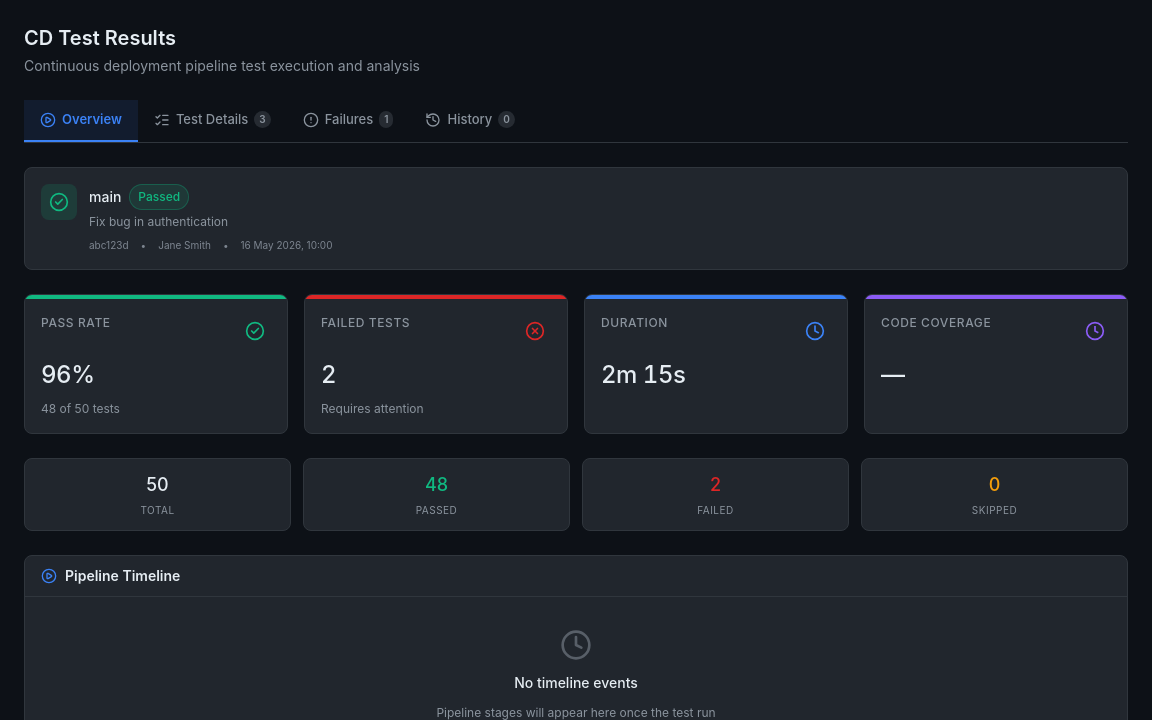
Test: TestResultsView › filters tests by status in Test Details tab
The width and height of the screenshot is (1152, 720).
// Navigate to Test Details
Click the tab "Test Details 3": x=212, y=121 [138, 100, 287, 142]
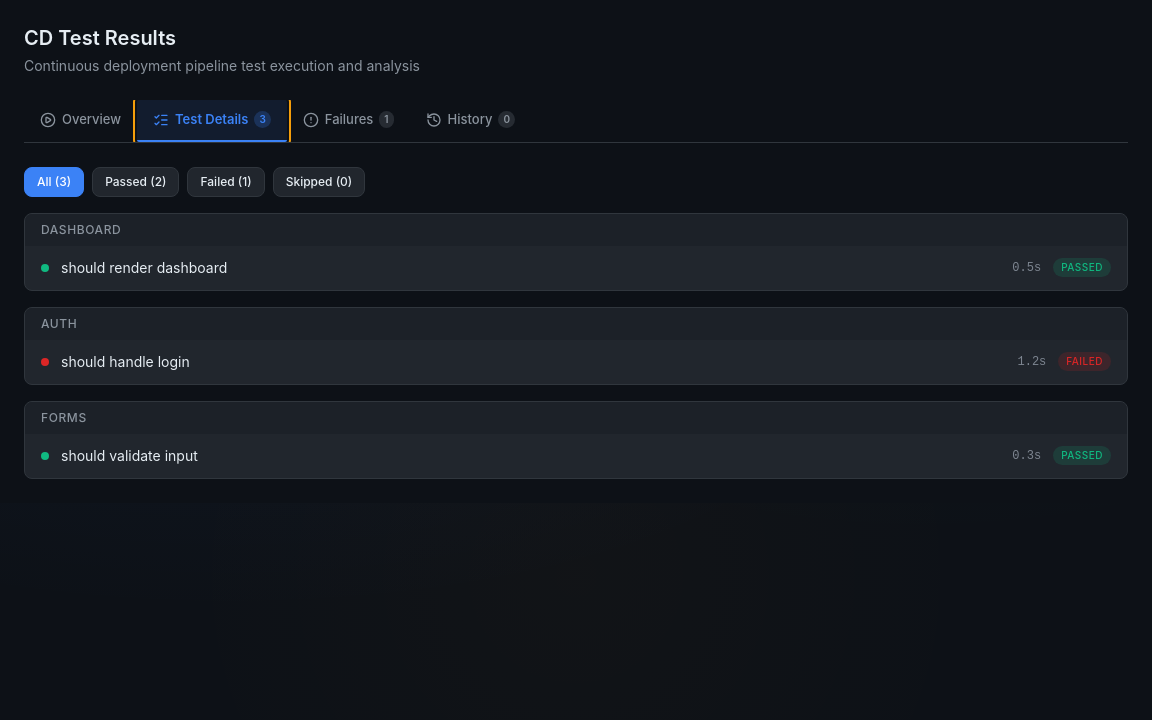
// Click on "Failed" filter
Click the button "failed (1)": x=226, y=182 [188, 166, 265, 196]
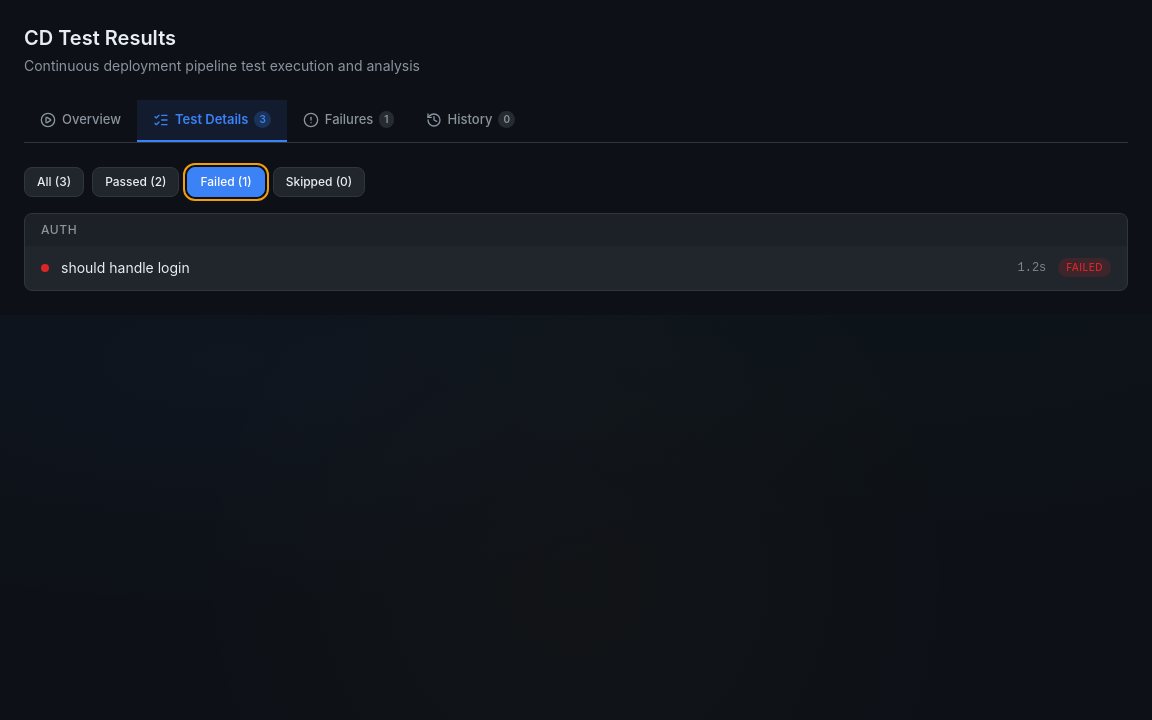
Expected: the text "should handle login" is shown, [61, 258, 190, 278]
Expected: the text "should render dashboard" is gone
